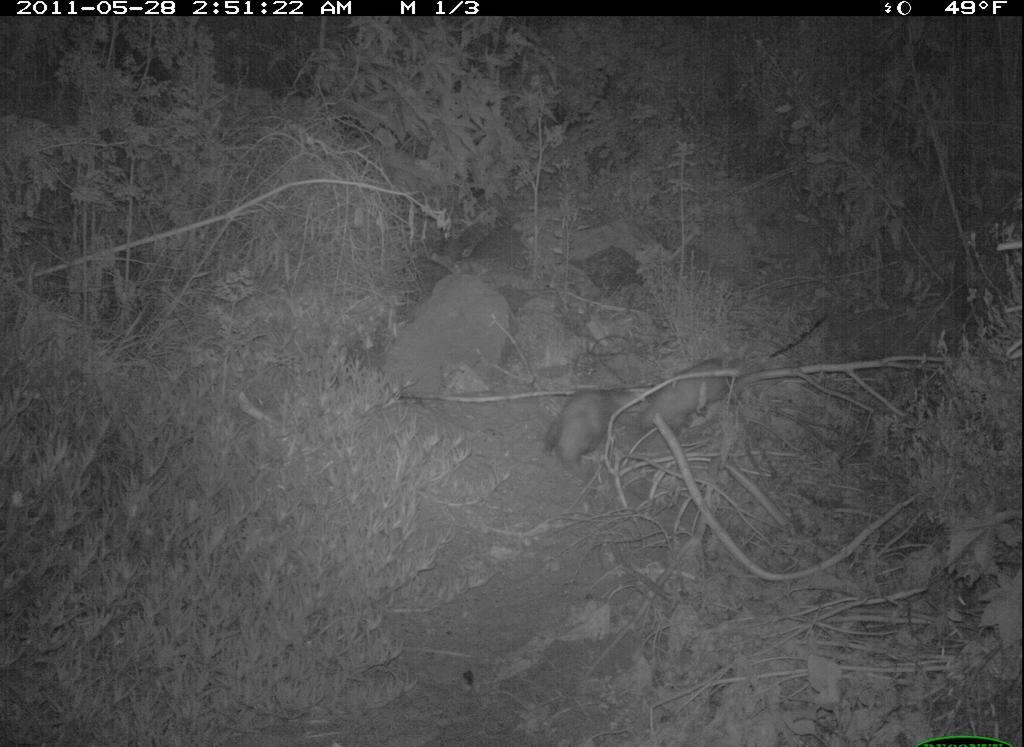opossum: (639, 350, 758, 441), (545, 390, 621, 473)
